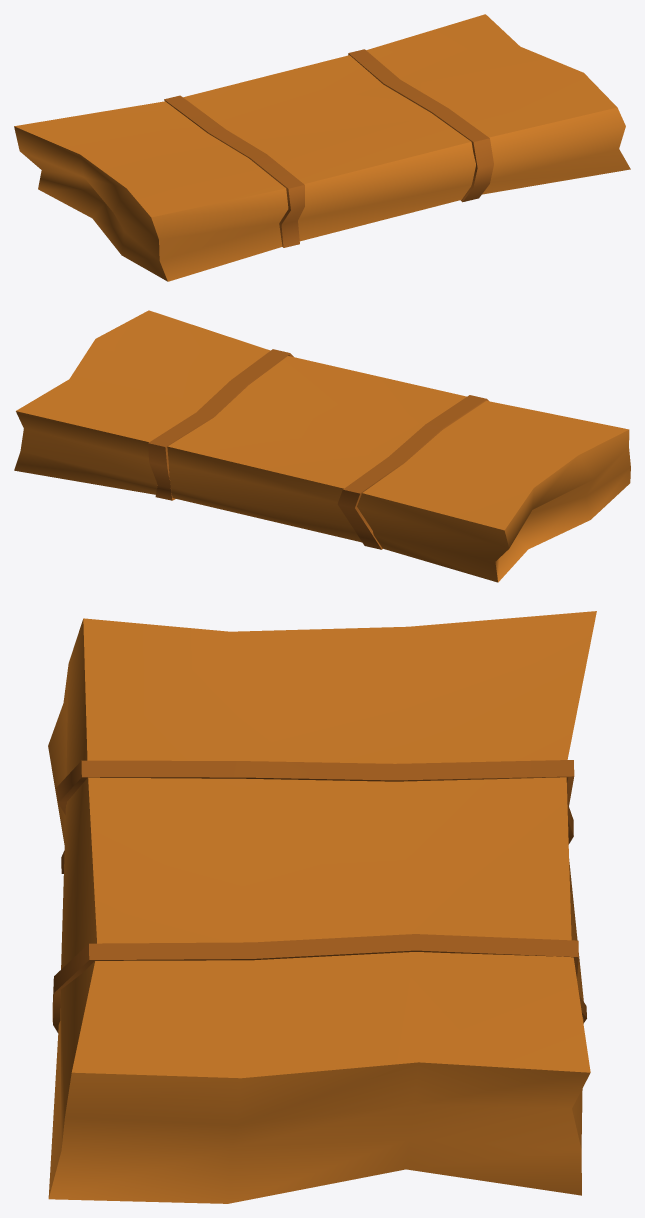
Rendered from bale_model 1.fbx.
3 renders of one model, top to bottom at view 1: azimuth 30°, elevation 25°; view 2: azimuth 150°, elevation 25°; view 3: azimuth 270°, elevation 25°, orthographic. The views are drawn at different scales.
Visible parts, largest first — view 1: bale_mesh; view 2: bale_mesh; view 3: bale_mesh.
Part boxes in pixels (x1,y1,x2,y2): bale_mesh: (14,14,630,281); bale_mesh: (14,310,630,582); bale_mesh: (48,611,596,1203).
Size of the model in its own units: 10.06 by 1.27 by 4.93.
